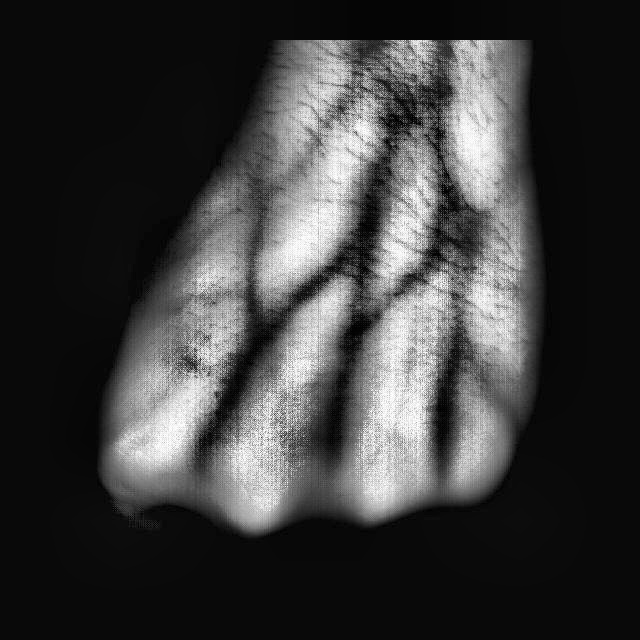Vein: (323, 220, 385, 406)
